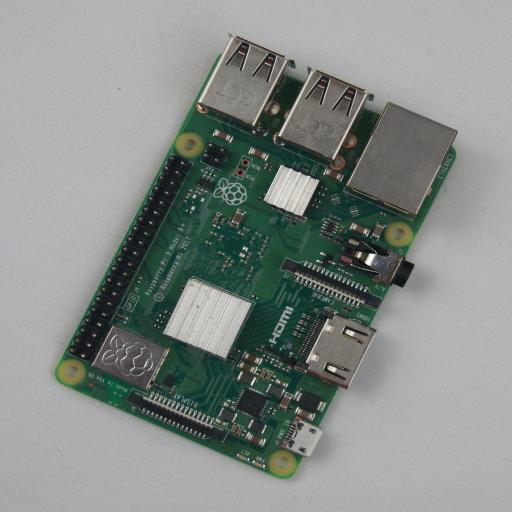Raspberry Pi 3 B-: (55, 36, 457, 479)
